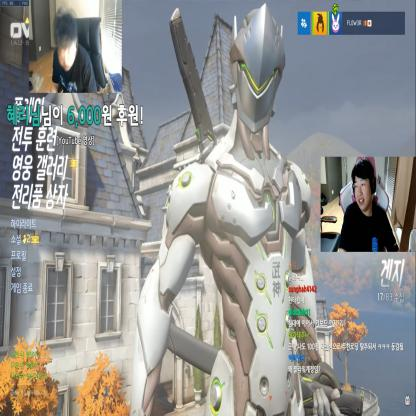donation: (6, 0, 146, 151)
streamer: (337, 157, 402, 251)
